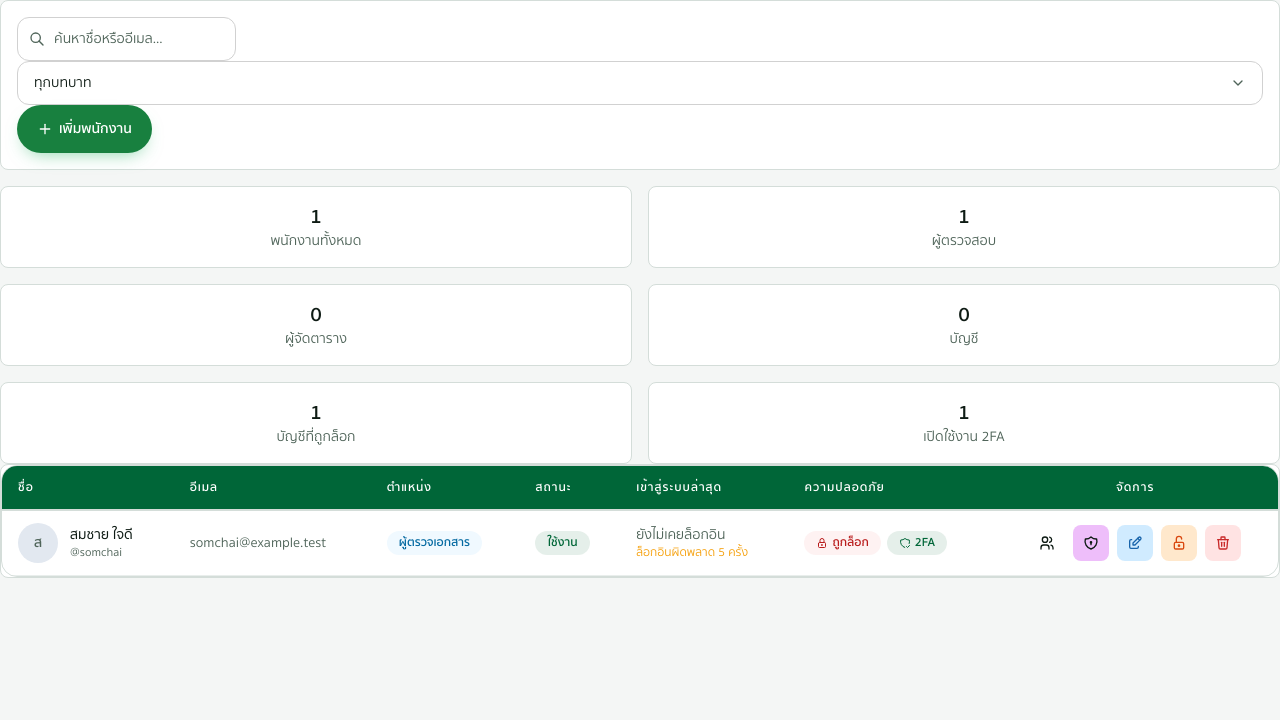
/provider/management — edit dialog › the edit dialog has no password field
Click the button named "แก้ไขพนักงาน สมชาย ใจดี" at {"x": 1135, "y": 543}, box [1117,525,1153,561]
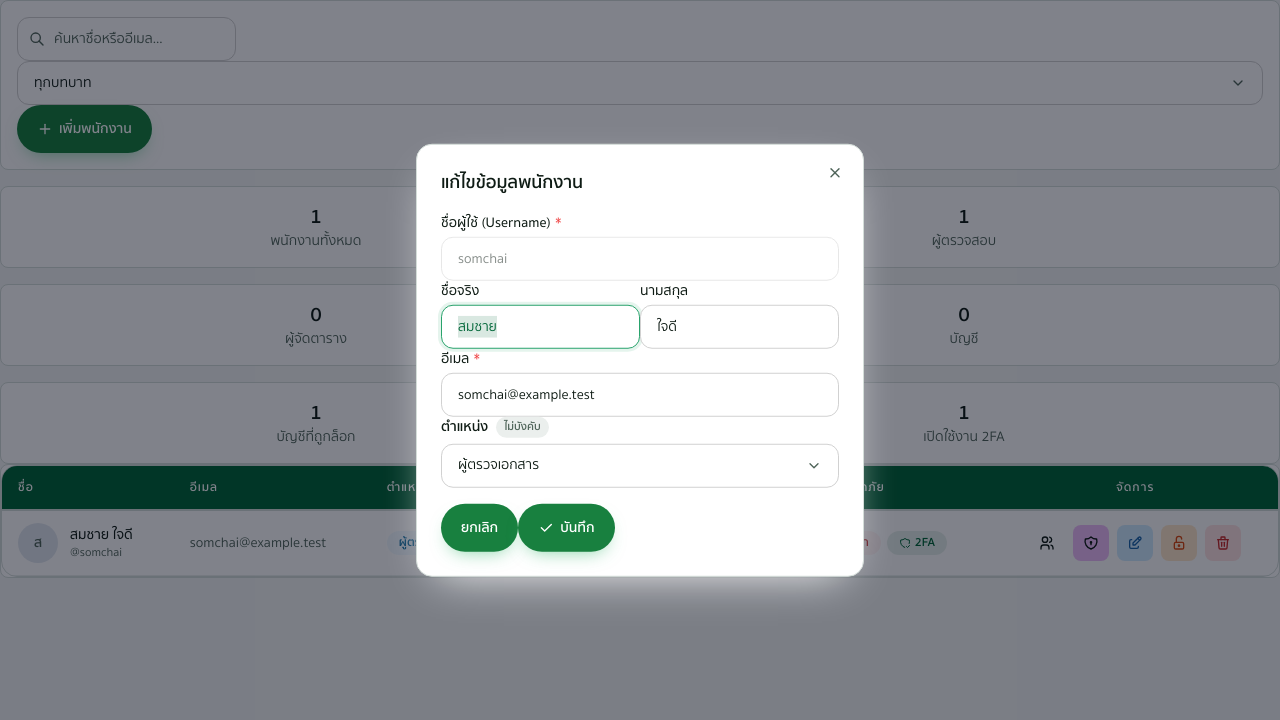
expect the dialog is shown: met, box [416,144,864,576]
expect the dialog shows "แก้ไขข้อมูลพนักงาน": met, box [441,168,583,197]
expect the field labelled "อีเมล*" is shown: met, box [441,373,839,417]
